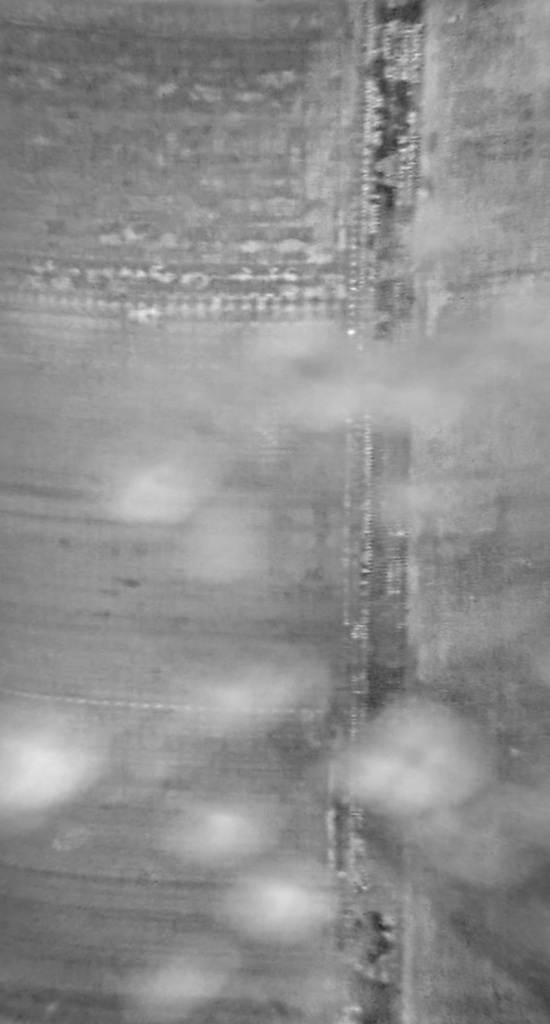splice: (337, 1, 434, 1024)
